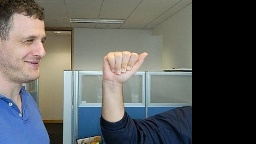Pugno: (99, 48, 149, 82)
